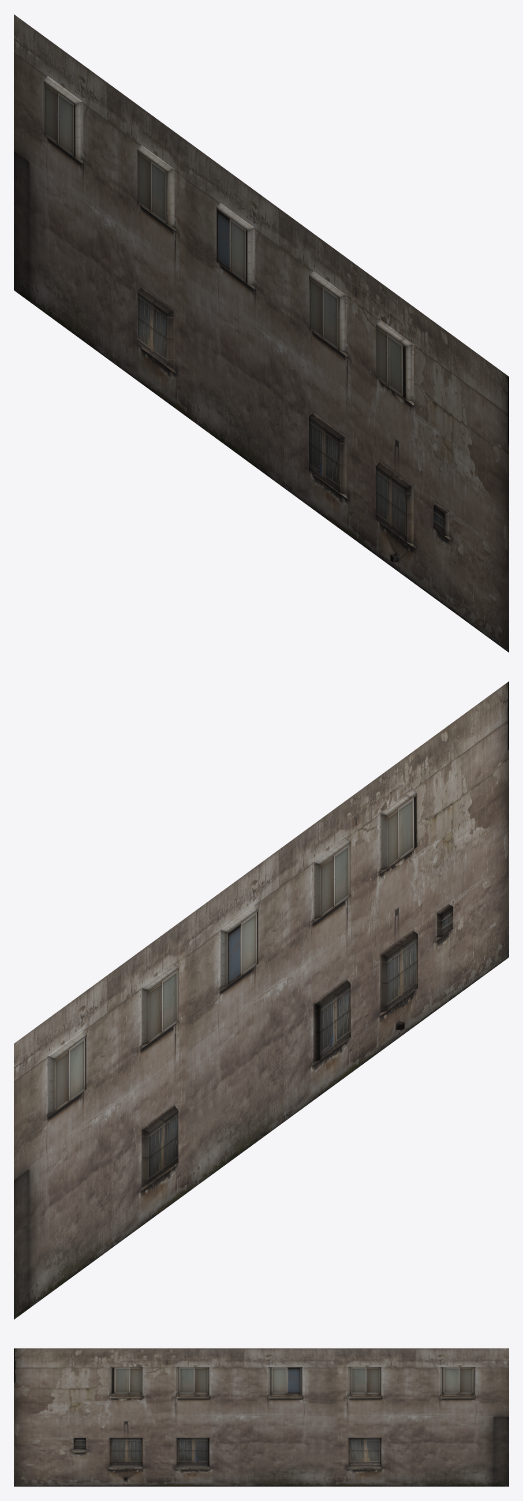
The model's file is Building.FBX.
The picture shows the model from 3 angles, top to bottom: view 1: azimuth 30°, elevation 25°; view 2: azimuth 150°, elevation 25°; view 3: azimuth 270°, elevation 25°; orthographic projection. The views are drawn at different scales.
Visible parts, largest first — view 1: Example_Building; view 2: Example_Building; view 3: Example_Building.
Part boxes in pixels (box(x1,y1,x2,y2)): Example_Building: box(14, 14, 508, 652); Example_Building: box(14, 681, 508, 1319); Example_Building: box(14, 1348, 508, 1486).
Bounding box in the file's own units: 0.6347 × 20 × 65.
Materials: 1 (1 with a texture image).
